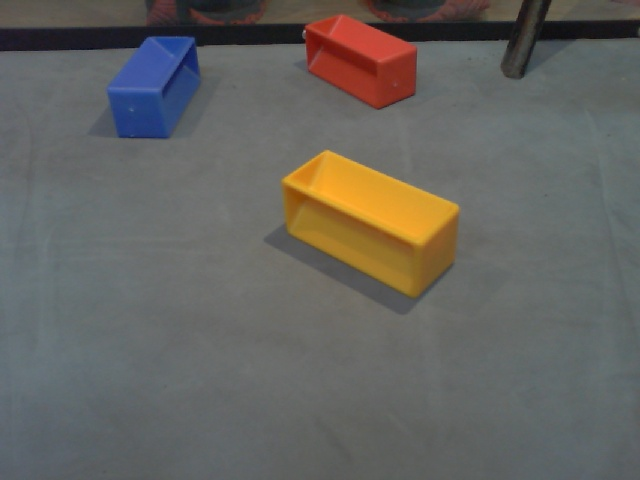BlueSample: (104, 34, 202, 144)
RedSample: (301, 10, 420, 112)
YellowSample: (277, 147, 463, 300)
